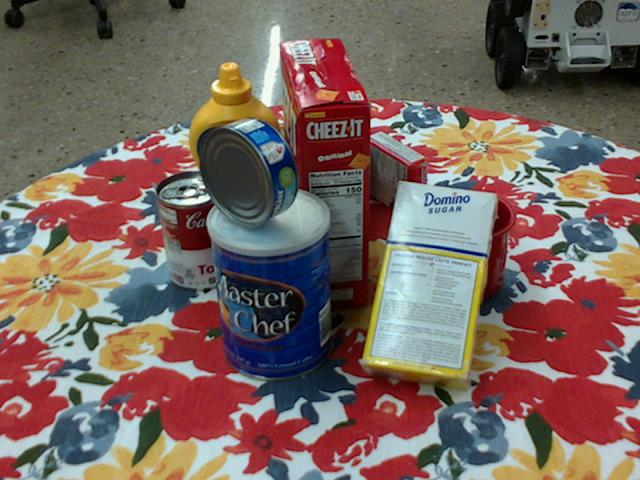cracker_box: (278, 39, 371, 311)
gelatin_box: (362, 130, 427, 220)
large_marker: (306, 76, 327, 126)
master_chef_can: (207, 187, 332, 384)
mug: (397, 189, 514, 302)
mustard_bottle: (188, 63, 285, 239)
potted_meat_can: (272, 121, 363, 209)
sugar_box: (360, 183, 495, 394)
tomato_soup_can: (155, 170, 233, 290)
tuna_fish_can: (198, 118, 299, 228)
